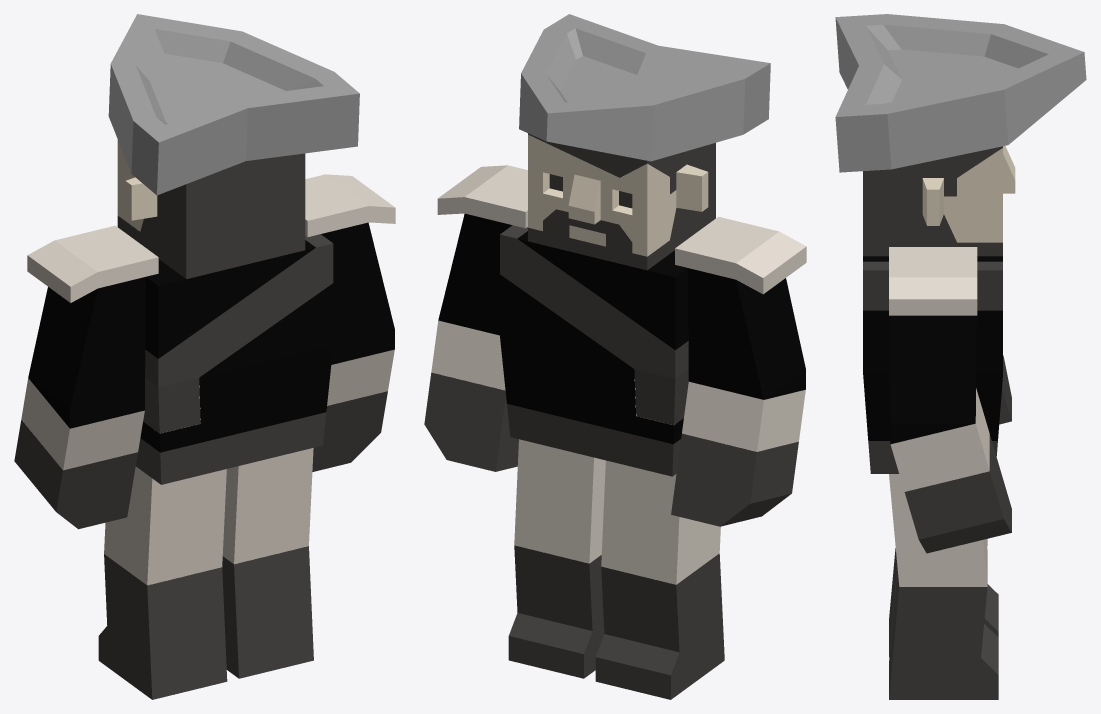
The model's file is PirateCap.gltf.
The picture shows the model from 3 angles, left to right: view 1: azimuth 30°, elevation 25°; view 2: azimuth 150°, elevation 25°; view 3: azimuth 270°, elevation 25°; orthographic projection.
Parts seen in each view (by area): view 1: body, armLeft, Group_122001, legLeft, legRight, armRight, Group_122; view 2: body, armLeft, Group_122001, legLeft, armRight, legRight, Group_122; view 3: Group_122001, armRight, legRight, Group_122, body, legLeft, armLeft.
Part boxes in pixels (x1,y1,x2,y2): body: (136, 234, 333, 484); armLeft: (14, 225, 158, 529); Group_122001: (108, 14, 359, 195); legLeft: (98, 466, 227, 699); legRight: (222, 448, 313, 678); armRight: (305, 174, 395, 471); Group_122: (117, 140, 305, 278); body: (500, 225, 688, 476); armLeft: (671, 216, 806, 526); Group_122001: (519, 14, 770, 161); legLeft: (595, 460, 724, 699); armRight: (424, 165, 527, 471); legRight: (508, 439, 605, 678); Group_122: (528, 133, 715, 270); Group_122001: (835, 14, 1086, 172); armRight: (889, 247, 1011, 553); legRight: (889, 474, 998, 699); Group_122: (863, 146, 1015, 256); body: (863, 196, 1002, 473); legLeft: (889, 539, 998, 656); armLeft: (999, 355, 1011, 424).
Size of the model in its own units: 0.6239 by 1.09 by 0.4096.
